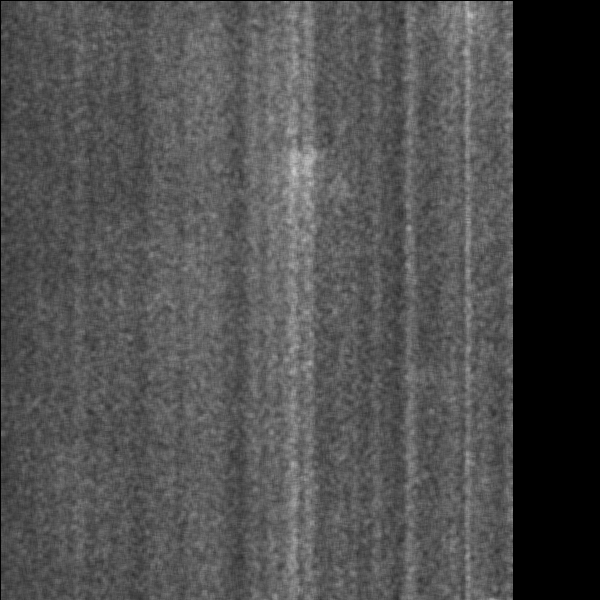spark: (285, 143, 339, 168)
